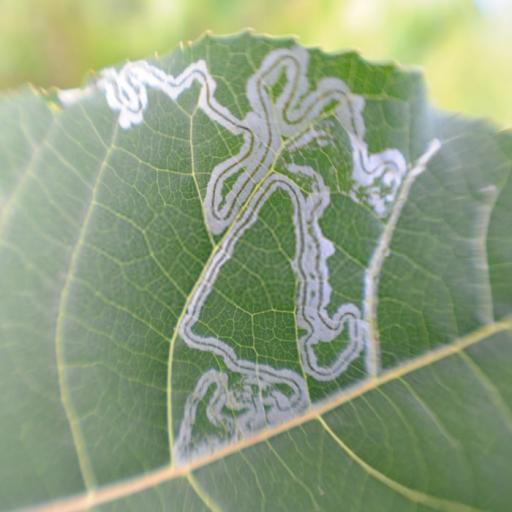disease_tomato: (0, 28, 512, 512)
